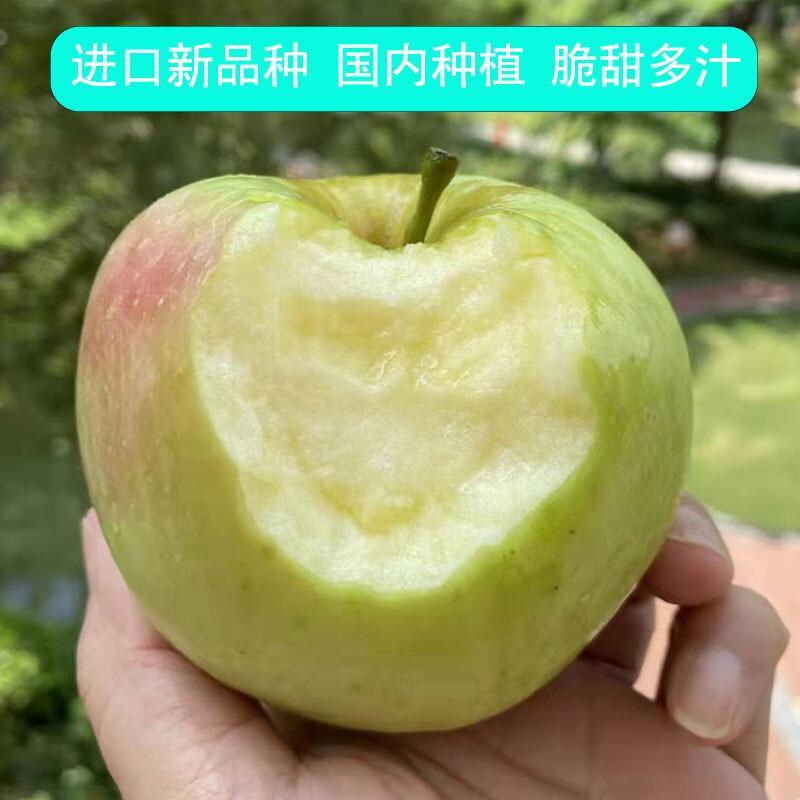apple: (77, 155, 722, 744)
